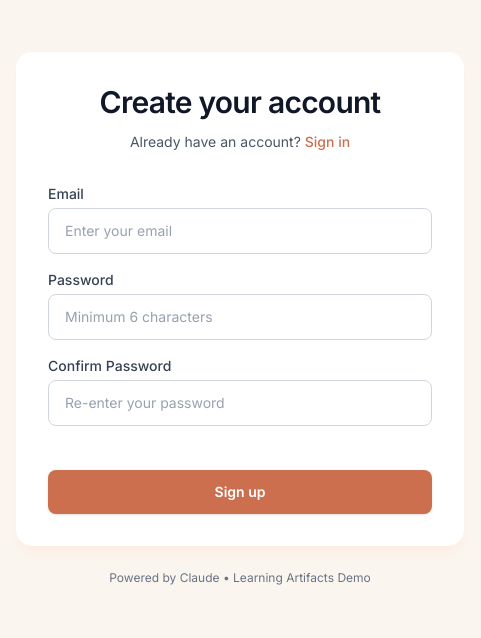
SignupPage › displays error message on failed signup
Type "existing@example.com" into the field with placeholder "Enter your email". click: (240, 231)
box: [48,208,432,254]
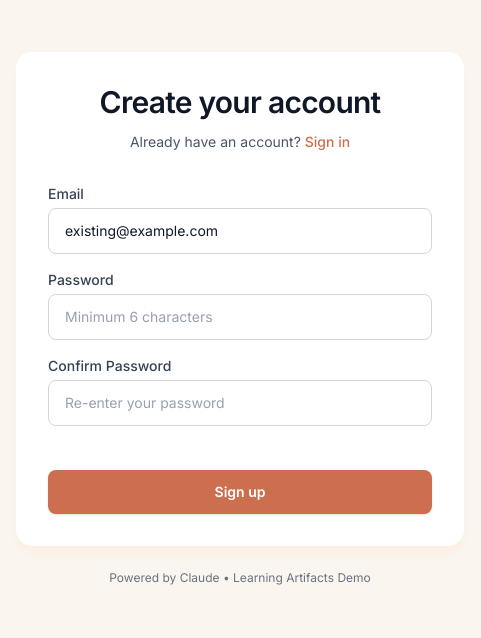
Type "password123" into the password field with placeholder "Minimum 6 characters". click: (240, 317)
box: [48,294,432,340]
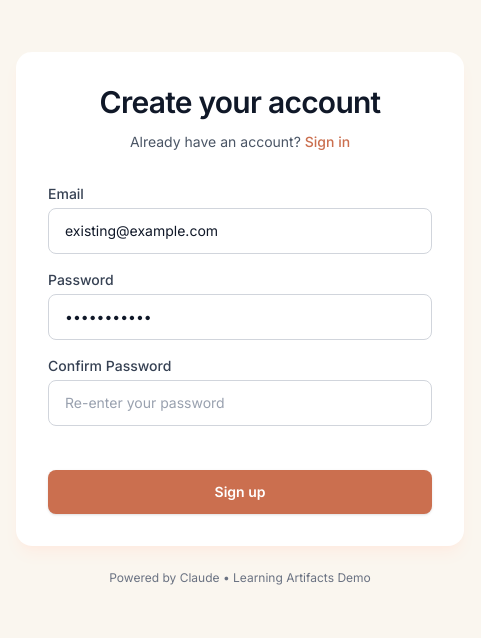
Type "password123" into the password field with placeholder "Re-enter your password". click: (240, 403)
box: [48,380,432,426]
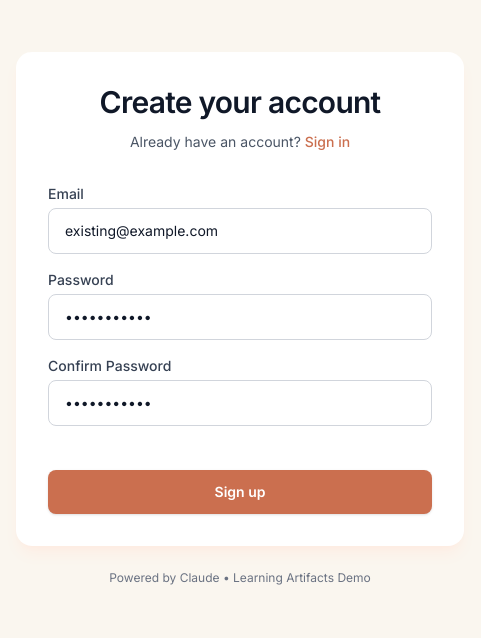
Click the button "Sign up". click: (240, 492)
box: [48,470,432,514]
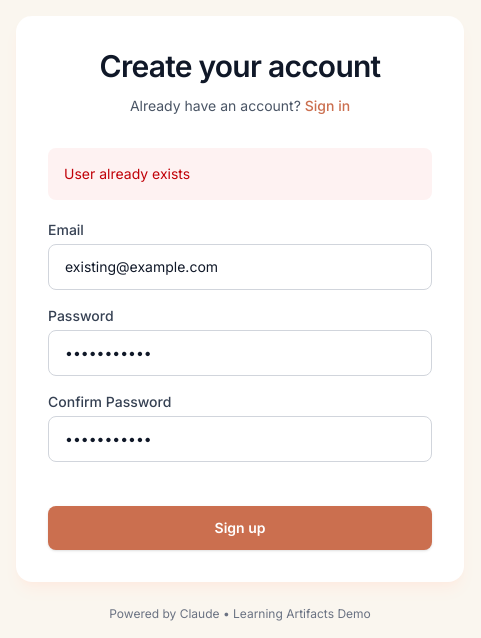
Now the text "User already exists" is shown, box [64,165,190,182]
